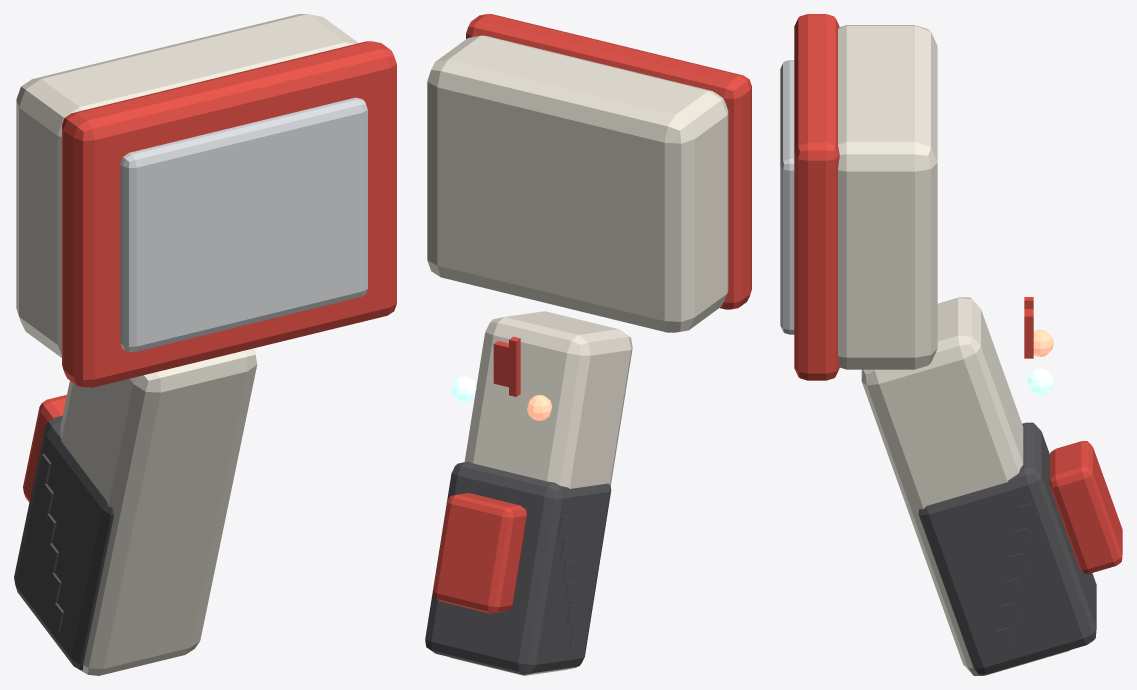
File: MiniVan_Defib_Tube.fbx
3 renders of one model, left to right at view 1: azimuth 30°, elevation 25°; view 2: azimuth 150°, elevation 25°; view 3: azimuth 270°, elevation 25°, orthographic. The views are drawn at different scales.
Parts seen in each view (by area): view 1: Defib_Tube; view 2: Defib_Tube; view 3: Defib_Tube.
Boxes of the visible parts, bbox=[...] form: Defib_Tube: bbox=[14, 14, 396, 675]; Defib_Tube: bbox=[425, 14, 751, 675]; Defib_Tube: bbox=[780, 14, 1122, 675].
Bounding box in the file's own units: 0.145 × 0.2796 × 0.15.
